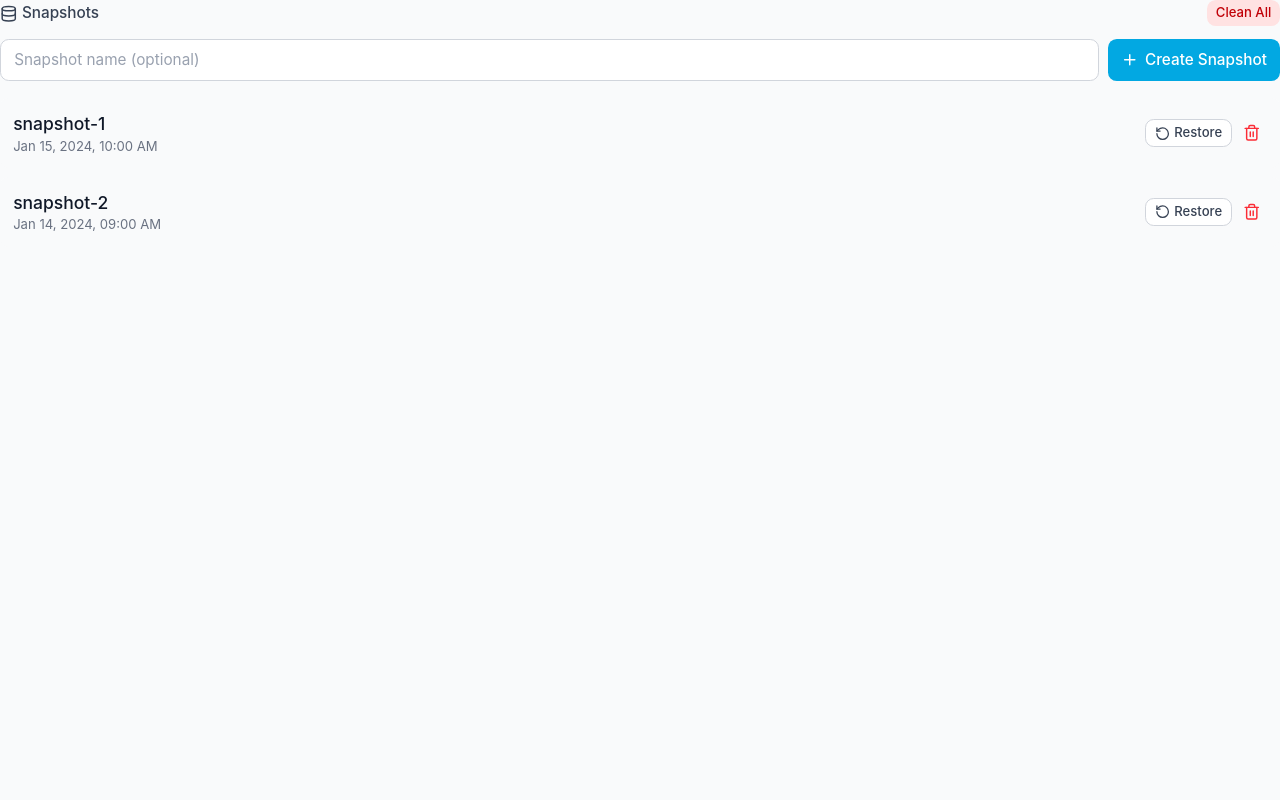
Test: SnapshotsSection › cleanup all snapshots › should show cleanup confirmation dialog
This screenshot has width=1280, height=800.
Click the button "Clean All" at (1244, 13), box 1207,0 -> 1279,26
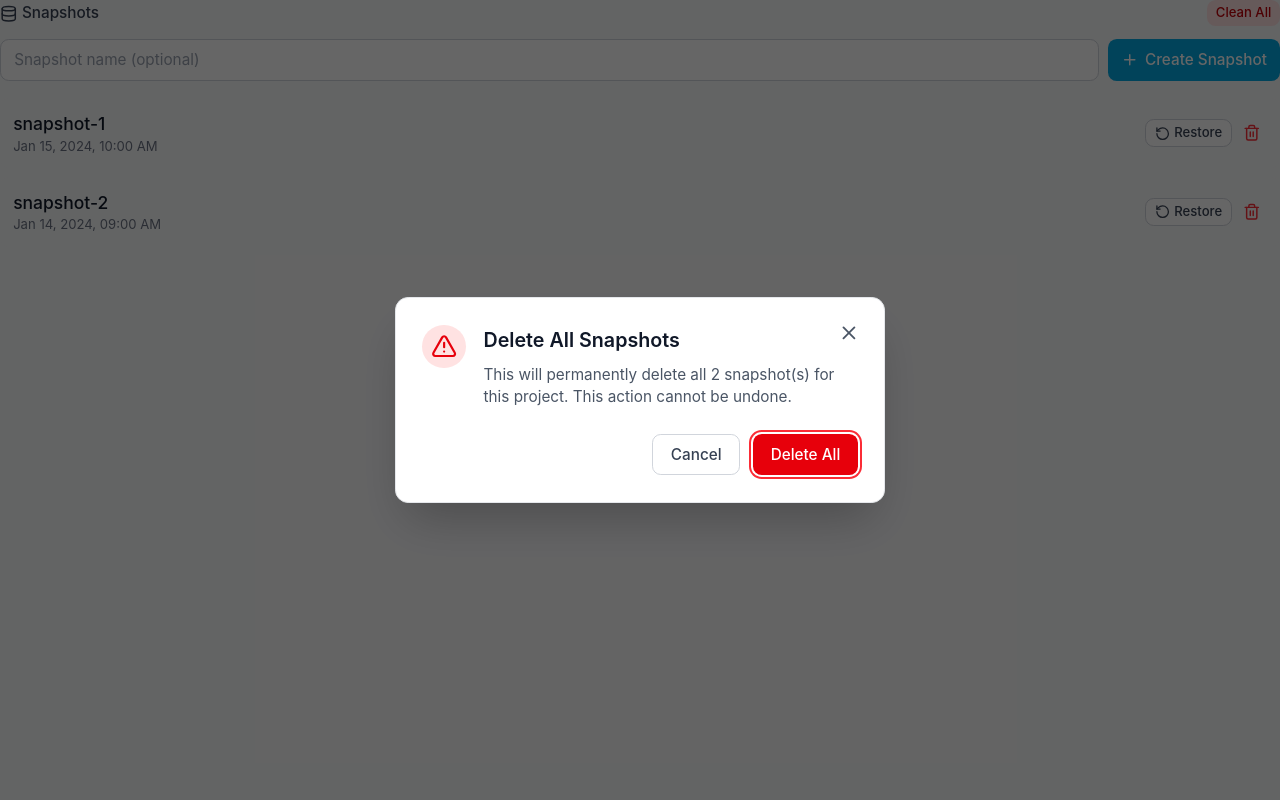
Now the heading "Delete All Snapshots" is shown, box 484,328 -> 680,352
Now the text "permanently delete all 2 snapshot" is shown, box 484,365 -> 834,406
